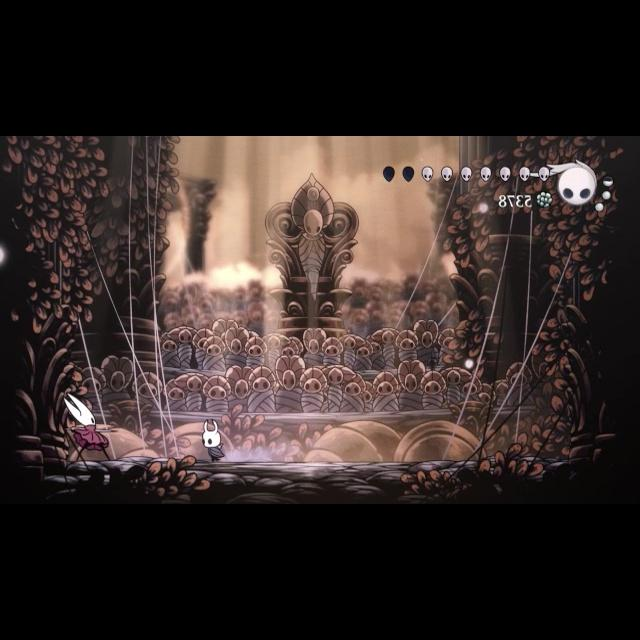EnemyLeadIn: (56, 388, 130, 466)
Player: (196, 416, 230, 462)
